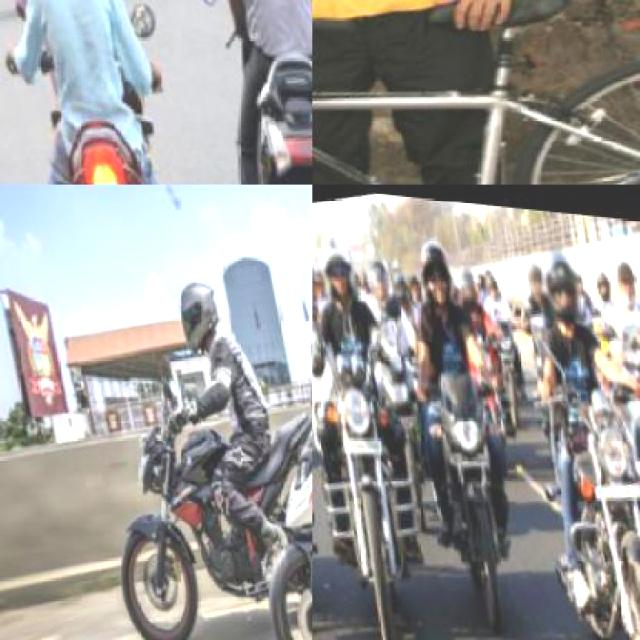With Helmet: (531, 230, 592, 322), (312, 216, 366, 304), (408, 220, 463, 303), (173, 266, 230, 343), (608, 240, 638, 294), (367, 252, 396, 300), (478, 252, 507, 298), (458, 258, 484, 304), (524, 247, 550, 291), (390, 260, 416, 302), (592, 254, 616, 294), (312, 252, 326, 300)
